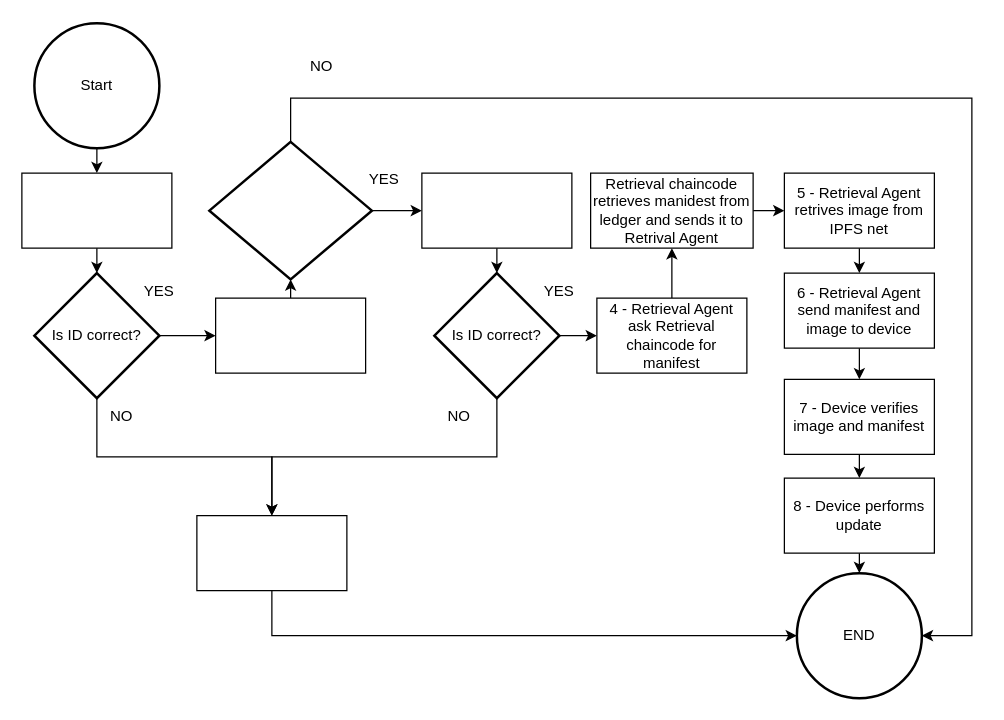
The diagram is 1004 pixels wide and 720 high, and some of its shapes have lost their labels. The centre of each missing label's shape, as x and y in pixels:
1 - Device ask for last version, sends identifier: point (96, 210)
2 - Retrieval Agent sends last version: point (290, 335)
3 - Device asks for update, sends ID: point (496, 210)
Is last version superior to device version?: point (290, 210)
Retrieval Agent sends error message: point (271, 552)
